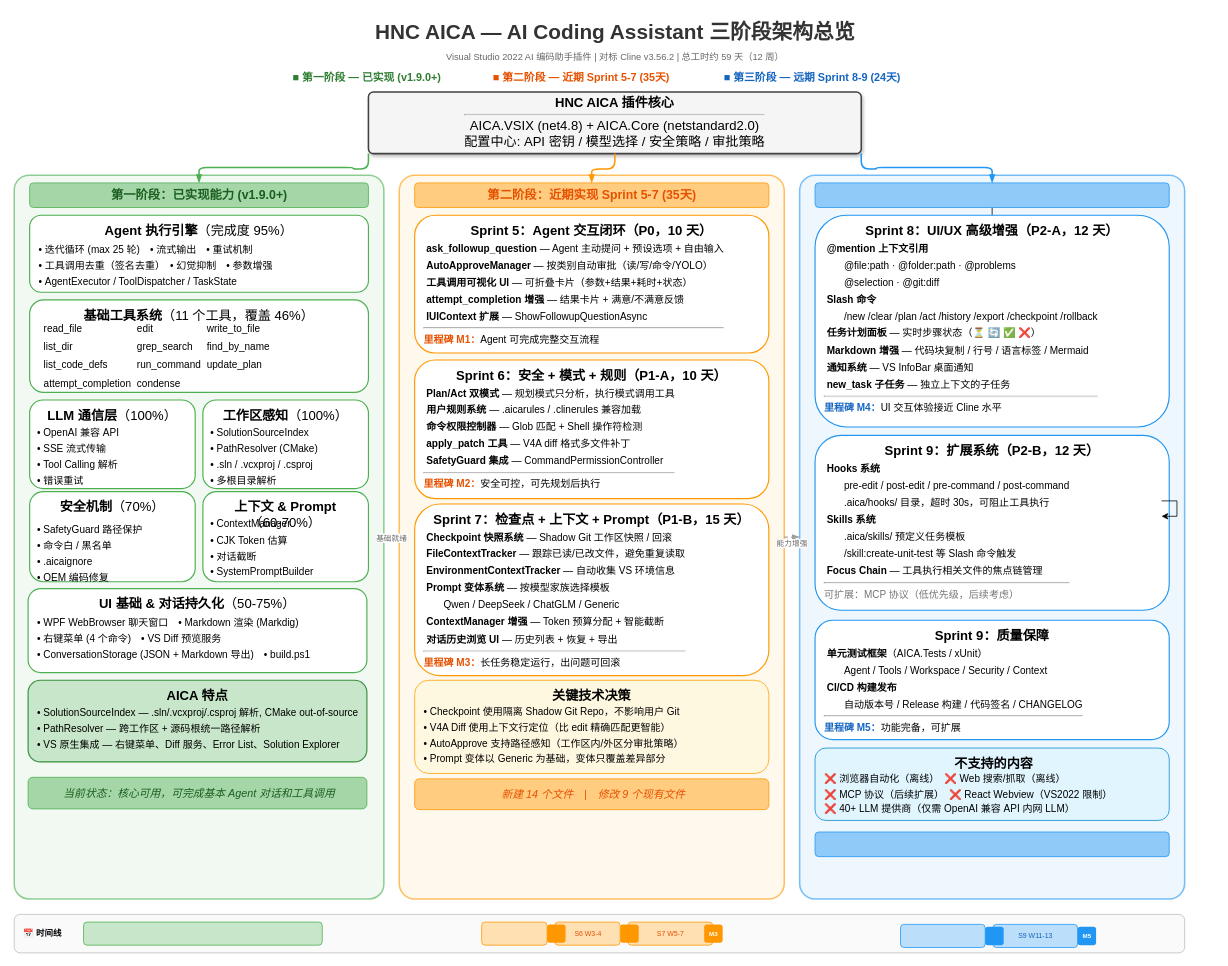
Image size: 1228x966. Some labels were removed from this diagram. The shapes that lost their labels are listed below. From the top down, each one's centre as x and y in pixels, then its label:
At (991,195): "第三阶段：远期实现 Sprint 8‑9 (24天)".
At (991,844): "全部完成后预计达到 Cline 92% 功能覆盖".
At (202,933): "已完成 ✅".
At (514,933): "S5 W1‑2".
At (556,933): "M1".
At (629,933): "M2".
At (942,935): "S8 W8‑10".
At (994,935): "M4".
